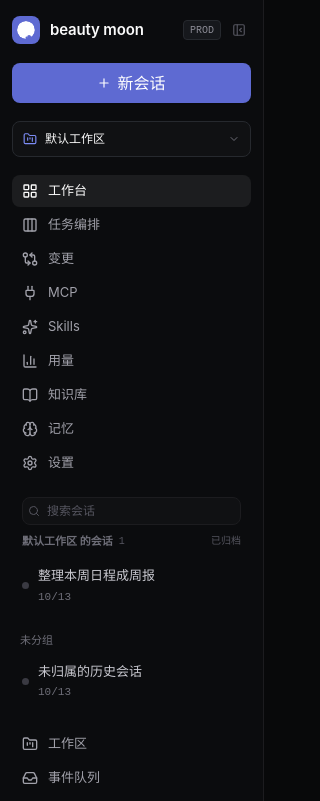
Test: ConsoleSidebar 工作区/会话 › 已归档切换传参并显示归档空态
The image size is (320, 801).
Expected: the text "整理本周日程成周报" is shown, [38,568,155,584]
Step 1. Click the button "已归档" → (226, 541), box [211,534,241,549]
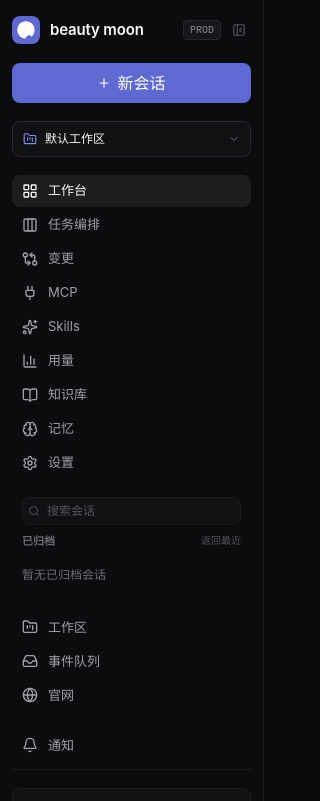
Result: the text "暂无已归档会话" is shown at [22,568,106,582]
Result: the button "返回最近" is shown at [201,534,241,549]
